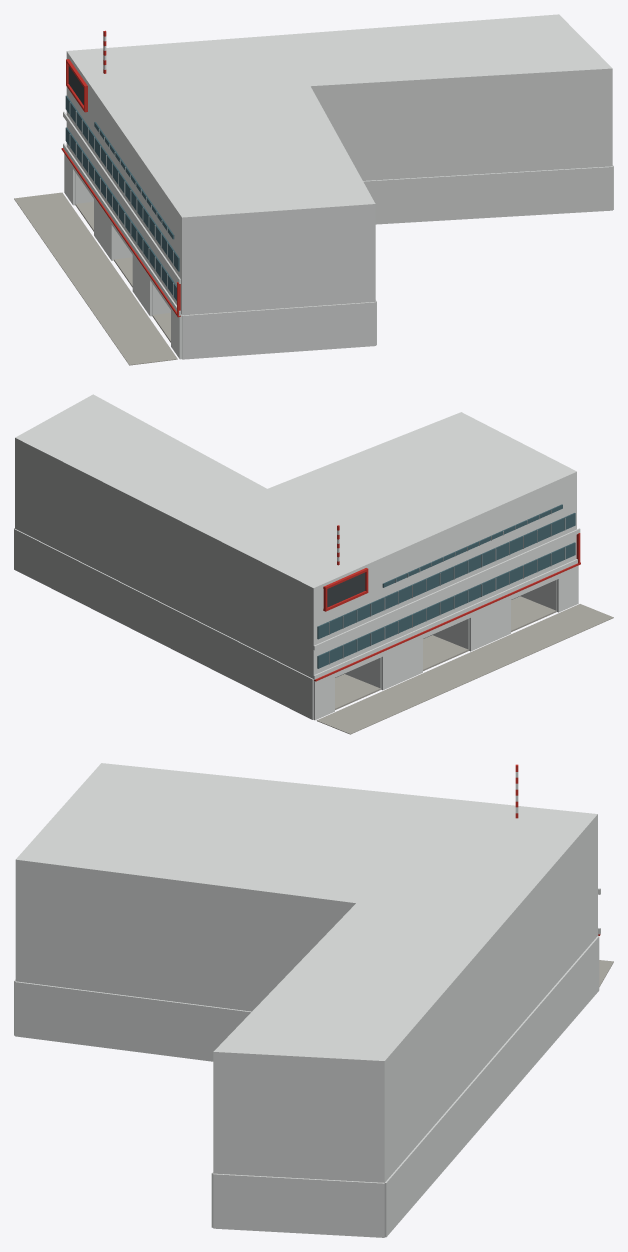
File: Central119Restored.fbx
3 renders of one model, top to bottom at view 1: azimuth 30°, elevation 25°; view 2: azimuth 150°, elevation 25°; view 3: azimuth 270°, elevation 25°, orthographic. The views are drawn at different scales.
Visible parts, largest first — view 1: Observed parapet roof, Upper occupied volume INFERRED_HEIGHT, Unobserved ground wall INFERRED.003, Front apron INFERRED_EXTENT, Unobserved ground wall INFERRED.001, Observed horizontal glazing band.001, Observed horizontal glazing band, Source footprint ground slab, White horizontal spandrel.001, White horizontal spandrel, Apparatus pier.002, Apparatus pier.001 (+2 smaller); view 2: Observed parapet roof, Upper occupied volume INFERRED_HEIGHT, Unobserved ground wall INFERRED, Front apron INFERRED_EXTENT, Observed horizontal glazing band, Observed horizontal glazing band.001, Source footprint ground slab, White horizontal spandrel.001, Apparatus pier.002, Apparatus pier.001, White horizontal spandrel, Top low narrow window strip (+7 smaller); view 3: Observed parapet roof, Upper occupied volume INFERRED_HEIGHT, Unobserved ground wall INFERRED, Unobserved ground wall INFERRED.002, Unobserved ground wall INFERRED.004.
Part boxes in pixels (x1=…): Observed parapet roof: x1=66, y1=14, x2=612, y2=219; Upper occupied volume INFERRED_HEIGHT: x1=66, y1=54, x2=612, y2=315; Unobserved ground wall INFERRED.003: x1=363, y1=166, x2=612, y2=224; Front apron INFERRED_EXTENT: x1=14, y1=192, x2=177, y2=365; Unobserved ground wall INFERRED.001: x1=182, y1=302, x2=375, y2=359; Observed horizontal glazing band.001: x1=65, y1=95, x2=179, y2=271; Observed horizontal glazing band: x1=65, y1=127, x2=176, y2=300; Source footprint ground slab: x1=75, y1=201, x2=170, y2=342; White horizontal spandrel.001: x1=63, y1=111, x2=180, y2=283; White horizontal spandrel: x1=63, y1=143, x2=180, y2=315; Apparatus pier.002: x1=132, y1=254, x2=152, y2=316; Apparatus pier.001: x1=94, y1=198, x2=113, y2=260; Observed parapet roof: x1=15, y1=394, x2=576, y2=590; Upper occupied volume INFERRED_HEIGHT: x1=15, y1=440, x2=576, y2=678; Unobserved ground wall INFERRED: x1=14, y1=528, x2=313, y2=719; Front apron INFERRED_EXTENT: x1=316, y1=604, x2=613, y2=734; Observed horizontal glazing band: x1=317, y1=542, x2=575, y2=668; Observed horizontal glazing band.001: x1=317, y1=513, x2=575, y2=639; Source footprint ground slab: x1=335, y1=596, x2=556, y2=709; White horizontal spandrel.001: x1=313, y1=528, x2=580, y2=650; Apparatus pier.002: x1=469, y1=599, x2=510, y2=651; Apparatus pier.001: x1=381, y1=639, x2=422, y2=690; White horizontal spandrel: x1=313, y1=559, x2=577, y2=679; Top low narrow window strip: x1=382, y1=504, x2=562, y2=587; Observed parapet roof: x1=15, y1=763, x2=597, y2=1064; Upper occupied volume INFERRED_HEIGHT: x1=15, y1=817, x2=597, y2=1182; Unobserved ground wall INFERRED: x1=384, y1=936, x2=599, y2=1237; Unobserved ground wall INFERRED.002: x1=15, y1=981, x2=251, y2=1061; Unobserved ground wall INFERRED.004: x1=213, y1=1173, x2=384, y2=1237.
Bounding box in the file's own units: 5671 × 1848 × 4400.
